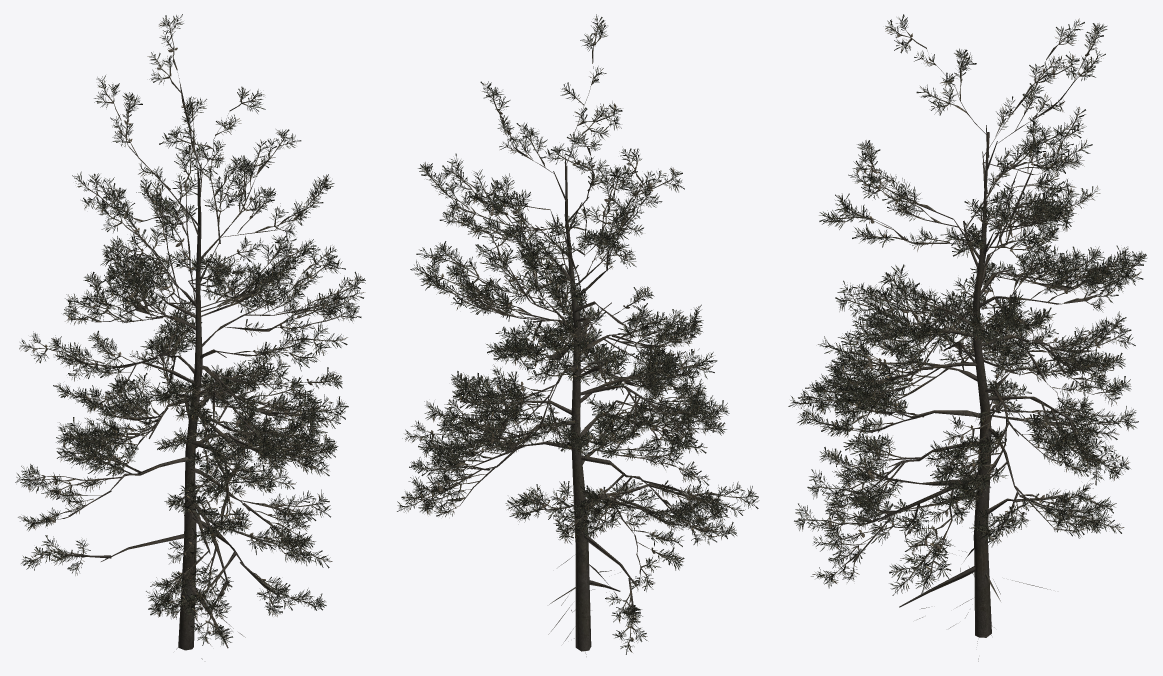
File: winter_pine.glb
The picture shows the model from 3 angles, left to right: view 1: azimuth 30°, elevation 25°; view 2: azimuth 150°, elevation 25°; view 3: azimuth 270°, elevation 25°; orthographic projection. The views are drawn at different scales.
Parts seen in each view (by area): view 1: ScotsPine; view 2: ScotsPine; view 3: ScotsPine.
Part boxes in pixels (x1,y1,x2,y2): ScotsPine: [15, 14, 365, 659]; ScotsPine: [397, 14, 759, 656]; ScotsPine: [788, 14, 1146, 661].
Bounding box in the file's own units: 1.61 × 2.95 × 1.48.
Materials: 3 (3 with a texture image).
